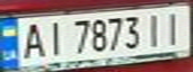3: (121, 12, 145, 51)
7: (66, 16, 90, 55), (106, 15, 127, 52)
8: (87, 16, 109, 52)
A: (15, 19, 48, 60)
I: (39, 18, 69, 57), (160, 8, 187, 46), (142, 10, 169, 47)
